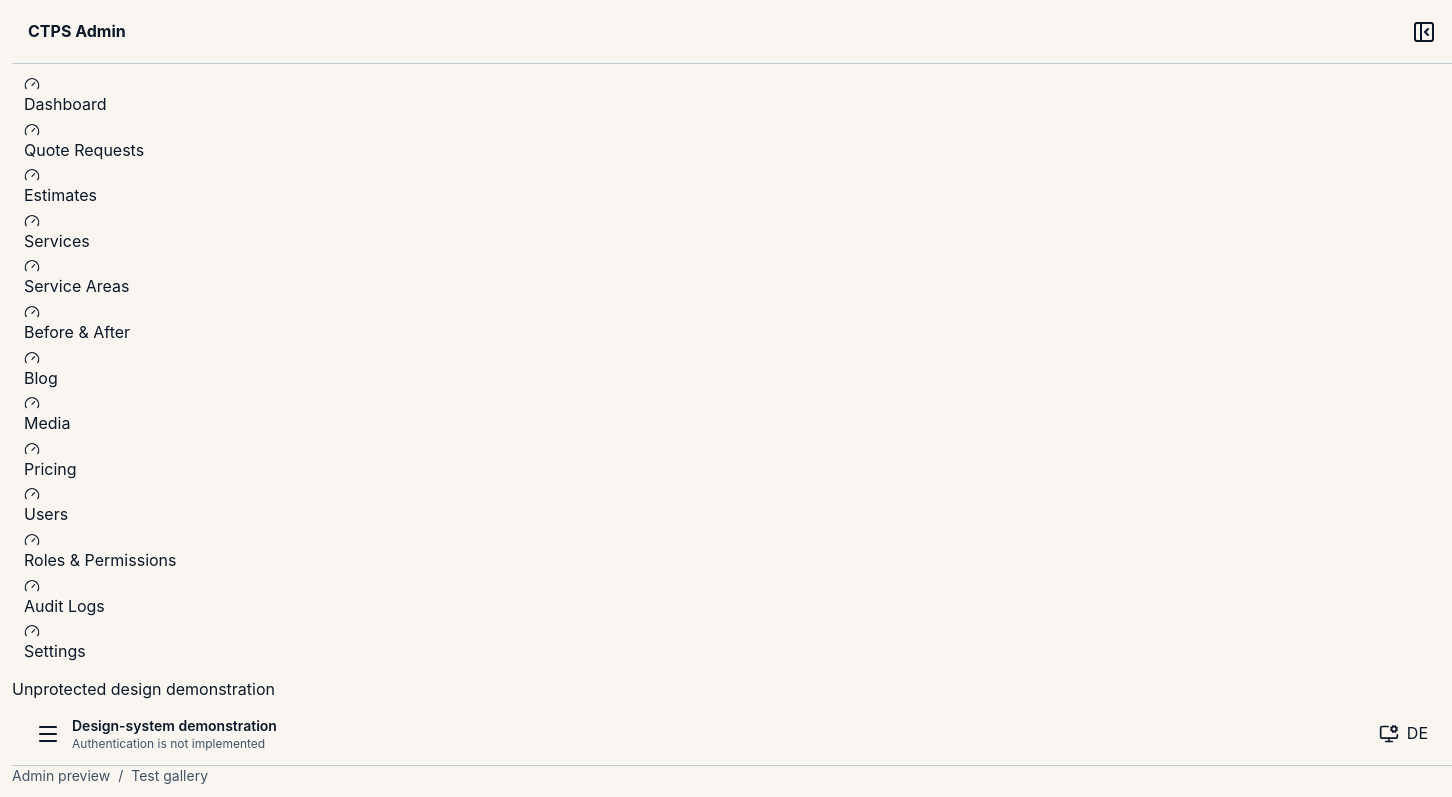
Test: admin shell demonstration › collapses the desktop sidebar with an accessible reversible control
Click the button named "Collapse sidebar" at x=1424, y=32, box [1412, 20, 1436, 44]
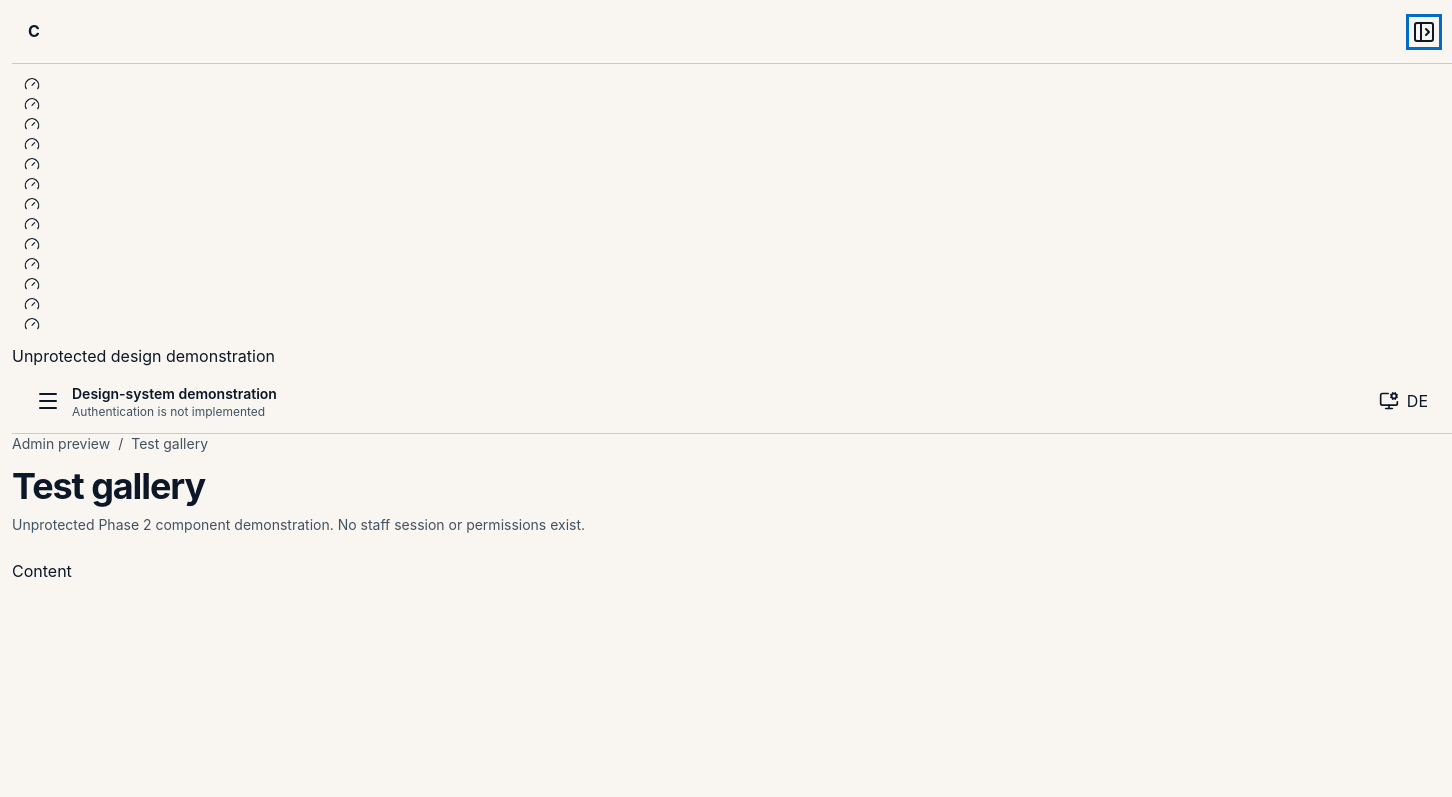
Expected: the link named "Dashboard" is shown, [24, 76, 1440, 92]
Expected: the button named "Expand sidebar" is shown, [1412, 20, 1436, 44]
